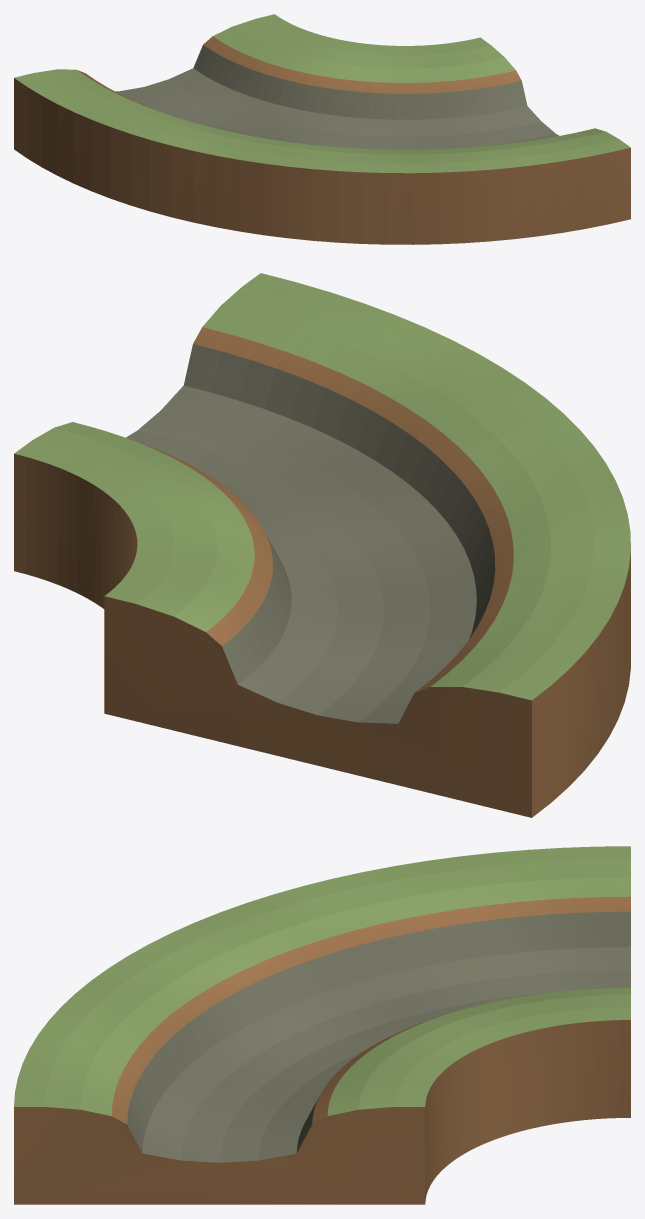
Rendered from Environment_Terrain_RiverCurve90R8_001.glb.
3 views of the same model, one above another, from view 1: azimuth 30°, elevation 25°; view 2: azimuth 150°, elevation 25°; view 3: azimuth 270°, elevation 25° (orthographic). The views are drawn at different scales.
Visible parts, largest first — view 1: TC_RiverCurve90R8_Body; view 2: TC_RiverCurve90R8_Body; view 3: TC_RiverCurve90R8_Body.
Boxes of the visible parts, x1,y1,x2,y2 form: TC_RiverCurve90R8_Body: (14,14,630,244); TC_RiverCurve90R8_Body: (14,273,630,817); TC_RiverCurve90R8_Body: (14,846,630,1204).
Bounding box in the file's own units: 12 × 2.1 × 12.
